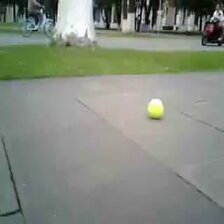tennis: (147, 98, 164, 120)
